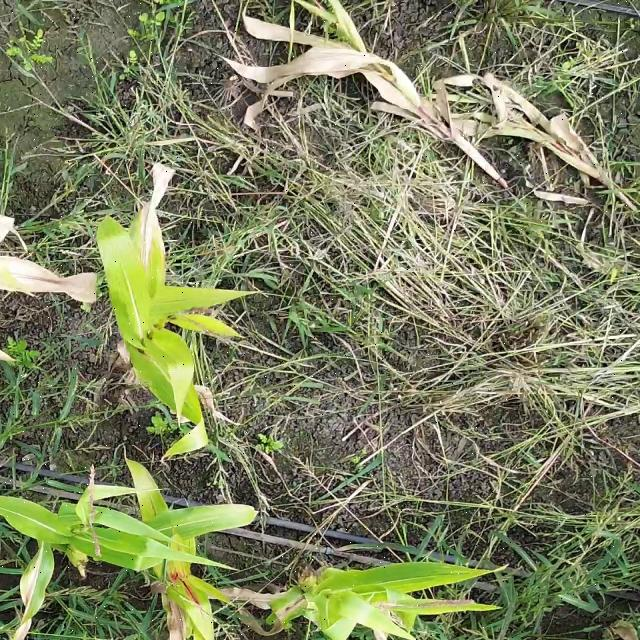southern-leaf-blight: (170, 508, 231, 548)
